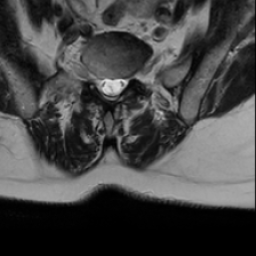CCS_normal: (106, 68, 115, 107)
LFS_severe_stenosis: (126, 64, 135, 91)
LLS_normal: (115, 69, 126, 99)
RFS_normal: (87, 63, 97, 91)
RLS_normal: (97, 68, 106, 100)
